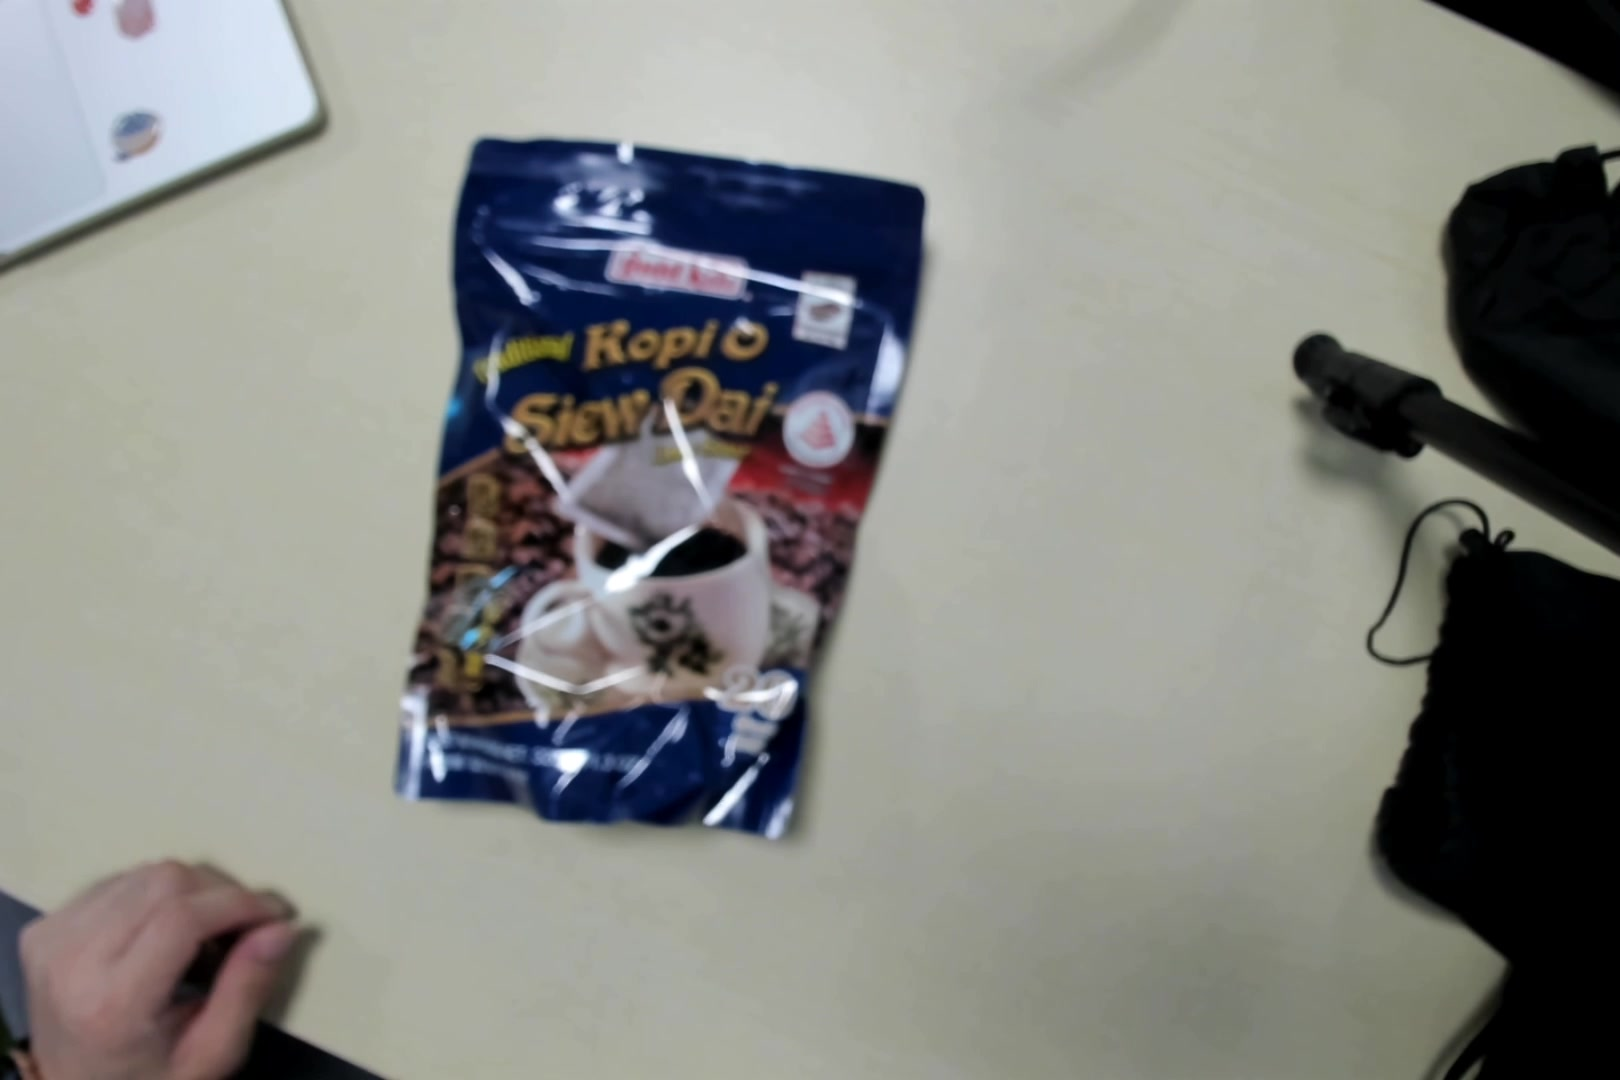Coffee(Powder)_300-399g_Halal_Healthy: (407, 135, 912, 849)
